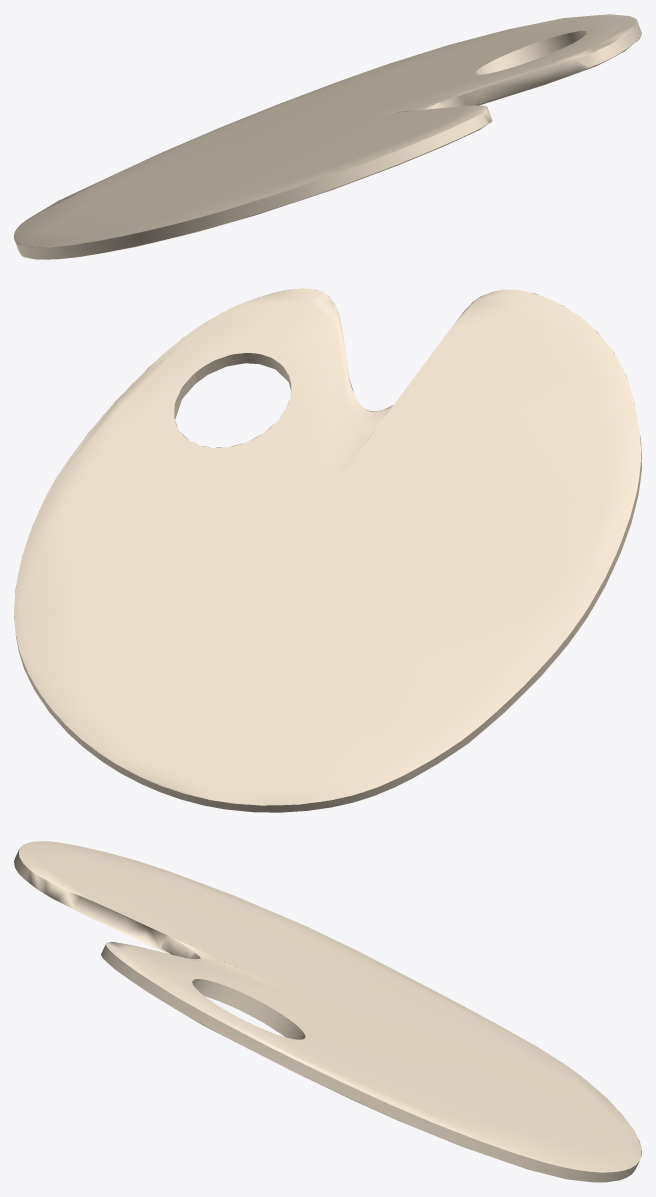
The model's file is Prop_Palette.fbx.
The picture shows the model from 3 angles, top to bottom: view 1: azimuth 30°, elevation 25°; view 2: azimuth 150°, elevation 25°; view 3: azimuth 270°, elevation 25°; orthographic projection. The views are drawn at different scales.
Parts seen in each view (by area): view 1: Prop_Palette_LOD0; view 2: Prop_Palette_LOD0; view 3: Prop_Palette_LOD0.
Boxes of the visible parts, <box> form: Prop_Palette_LOD0: <box>14,14,641,259</box>; Prop_Palette_LOD0: <box>14,288,641,812</box>; Prop_Palette_LOD0: <box>14,841,641,1182</box>.
Size of the model in its own units: 0.9938 by 1.14 by 0.5671.
